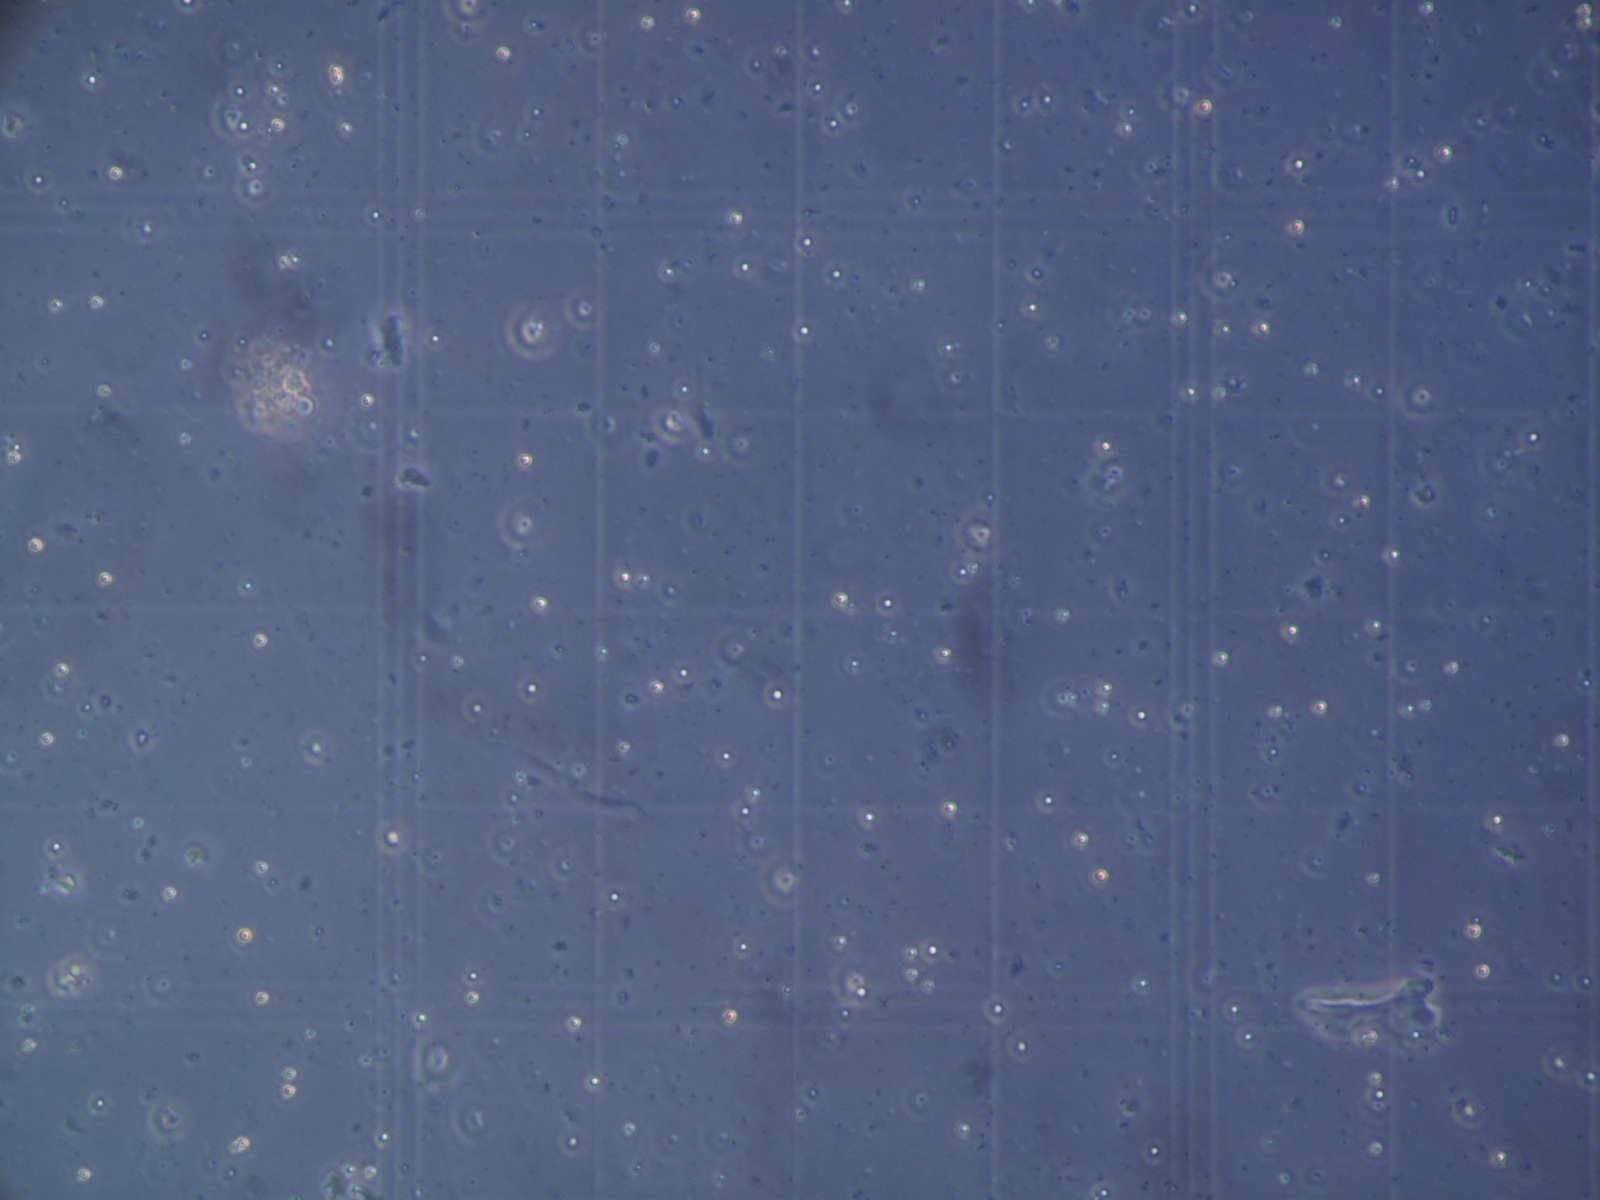virus: (1540, 1046, 1574, 1082), (557, 1124, 590, 1161), (300, 729, 331, 766), (1032, 83, 1063, 115), (517, 673, 547, 705), (761, 678, 791, 710), (461, 692, 490, 722), (1519, 422, 1548, 453), (732, 255, 761, 284), (1220, 995, 1249, 1024), (24, 166, 54, 194), (840, 648, 868, 678), (1090, 431, 1120, 459), (981, 996, 1010, 1024), (1008, 1034, 1036, 1063), (791, 316, 818, 345), (1542, 963, 1569, 992), (77, 67, 105, 93), (920, 935, 946, 963), (1139, 1138, 1167, 1165), (1178, 1, 1207, 26), (1036, 788, 1061, 816), (1364, 1082, 1392, 1107), (1572, 969, 1597, 997), (42, 834, 71, 858), (84, 1092, 113, 1116), (1577, 1061, 1600, 1092), (601, 884, 627, 909), (853, 804, 879, 829), (1128, 703, 1154, 729), (500, 785, 525, 812), (669, 661, 697, 684), (1012, 89, 1036, 117), (1233, 1024, 1259, 1049), (792, 232, 819, 256), (821, 110, 845, 135), (732, 798, 757, 822), (713, 744, 737, 769), (1409, 163, 1432, 188), (265, 54, 291, 77), (1574, 674, 1600, 697), (236, 575, 260, 599), (824, 263, 848, 287), (731, 935, 755, 959), (226, 78, 251, 101), (877, 591, 900, 616), (949, 561, 974, 584), (1089, 1181, 1117, 1200), (656, 260, 679, 284), (833, 1005, 857, 1027), (1117, 100, 1141, 122), (808, 39, 828, 66), (674, 379, 695, 402), (1131, 971, 1151, 995), (592, 642, 614, 663), (1288, 153, 1309, 174), (234, 115, 254, 137), (806, 77, 826, 100), (937, 337, 959, 357), (1330, 512, 1354, 529), (174, 1, 203, 15), (935, 644, 954, 664), (375, 1129, 393, 1150), (244, 158, 263, 175), (586, 1073, 603, 1092), (697, 442, 714, 461), (1020, 299, 1041, 315), (26, 536, 43, 555), (237, 926, 253, 945), (464, 988, 480, 1007), (338, 120, 354, 137), (384, 829, 401, 847), (414, 1010, 430, 1027), (1018, 1, 1041, 13), (495, 45, 511, 61), (140, 221, 155, 237), (518, 453, 534, 468), (748, 785, 763, 802), (1466, 923, 1482, 939), (683, 8, 700, 21), (267, 83, 282, 98), (89, 294, 105, 309), (281, 1083, 296, 1098), (254, 989, 270, 1005), (617, 570, 632, 585), (942, 800, 957, 816), (884, 626, 900, 642), (649, 678, 663, 695), (622, 1121, 636, 1137), (1184, 384, 1198, 401), (1289, 221, 1305, 234), (729, 209, 742, 227), (1095, 701, 1112, 713), (55, 663, 71, 677), (254, 860, 270, 874), (568, 1017, 583, 1031), (724, 1011, 738, 1026), (905, 945, 918, 961), (1094, 870, 1109, 884), (1073, 832, 1089, 846), (1364, 1029, 1380, 1042), (1477, 963, 1490, 978), (1555, 734, 1570, 747), (1100, 681, 1114, 696), (1286, 623, 1300, 638), (1490, 812, 1503, 828), (271, 118, 285, 132), (50, 297, 64, 311), (285, 1066, 299, 1080), (163, 887, 176, 901), (833, 935, 847, 949), (834, 592, 848, 606), (1313, 700, 1327, 713), (1270, 705, 1284, 718), (1216, 652, 1230, 666), (648, 340, 661, 354), (1197, 100, 1211, 113), (639, 16, 654, 29), (98, 383, 111, 398), (533, 597, 548, 610), (838, 1, 854, 13), (1388, 545, 1400, 561), (110, 166, 122, 180), (368, 209, 382, 222), (362, 393, 375, 406), (100, 572, 113, 585), (40, 732, 54, 745), (906, 967, 918, 981), (957, 1122, 970, 1136), (1369, 1071, 1383, 1084), (1463, 1104, 1477, 1117), (1494, 1151, 1508, 1163), (1420, 698, 1432, 712), (1445, 661, 1458, 674), (1220, 323, 1232, 337), (912, 279, 926, 291), (1119, 122, 1133, 135), (1386, 176, 1400, 189), (254, 635, 270, 647), (637, 574, 653, 585), (77, 1168, 89, 1181), (855, 984, 868, 997), (1175, 311, 1188, 324), (1411, 1030, 1424, 1042), (278, 255, 290, 268), (8, 451, 21, 463), (923, 979, 935, 993), (1369, 1143, 1383, 1155), (329, 64, 341, 76), (10, 441, 21, 454), (430, 333, 441, 345), (24, 1040, 35, 1053), (344, 1165, 357, 1176), (619, 741, 631, 753), (1369, 620, 1382, 632), (1358, 495, 1369, 508), (1439, 146, 1451, 158), (1259, 321, 1269, 335), (232, 1139, 241, 1155), (290, 253, 301, 265), (968, 562, 979, 574), (330, 73, 343, 83), (1060, 609, 1070, 621), (181, 432, 191, 444), (364, 1168, 375, 1179), (1406, 703, 1416, 715), (1330, 16, 1342, 26), (1351, 374, 1362, 384), (1368, 874, 1380, 884), (239, 1139, 249, 1150), (1280, 1174, 1290, 1184)
